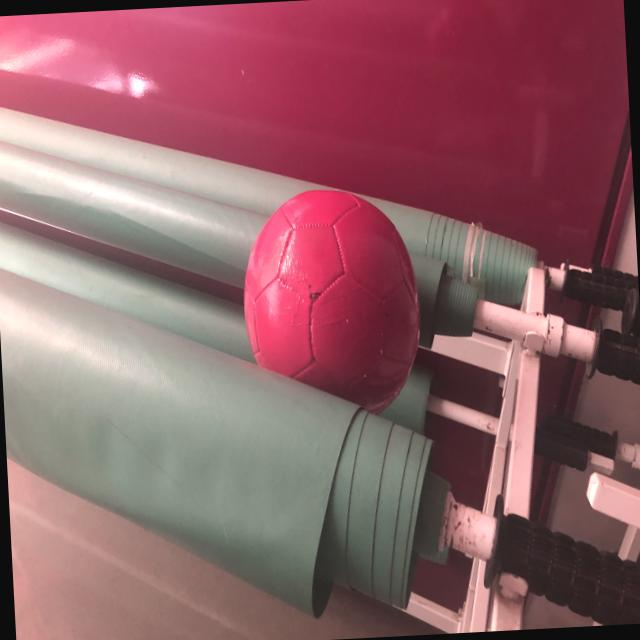red_ball: (239, 182, 426, 422)
